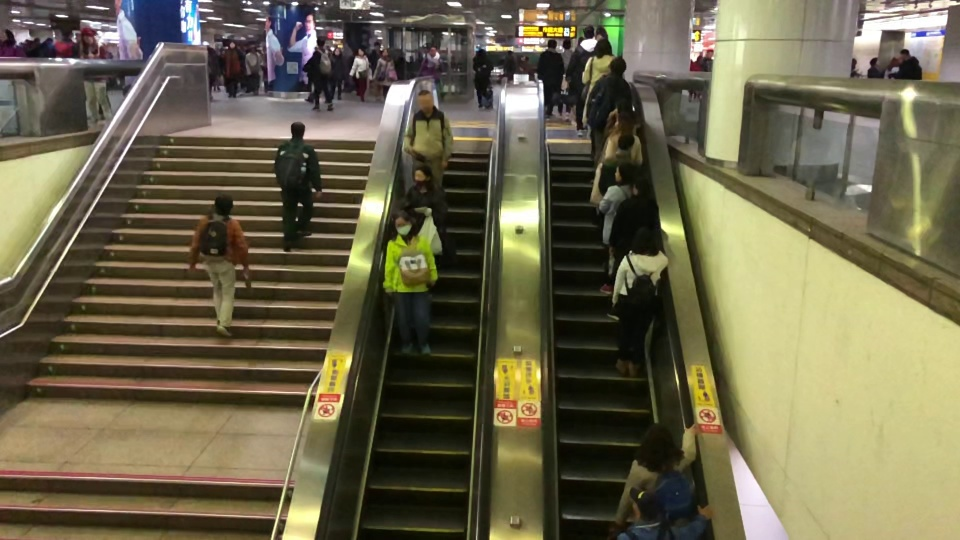person_head: (636, 421, 676, 466), (627, 485, 662, 525), (631, 225, 660, 257), (389, 209, 415, 239), (613, 96, 635, 120), (413, 164, 434, 189), (613, 112, 635, 135), (614, 162, 636, 185), (607, 54, 628, 74), (416, 89, 435, 111), (215, 193, 233, 215), (632, 175, 649, 197), (593, 38, 613, 56), (289, 120, 306, 137), (1, 28, 16, 45), (81, 31, 95, 47), (59, 25, 73, 40), (582, 25, 595, 38), (475, 47, 487, 60), (899, 49, 911, 62), (561, 37, 572, 51), (546, 38, 558, 50), (868, 56, 880, 68), (888, 55, 899, 67), (428, 44, 437, 57), (705, 48, 715, 58), (331, 47, 342, 56), (316, 37, 325, 48), (227, 40, 236, 50), (356, 47, 365, 57), (373, 40, 381, 51), (248, 44, 256, 52), (381, 47, 388, 56)
person_vbox: (600, 418, 701, 536), (185, 191, 249, 338), (608, 226, 669, 378), (382, 209, 439, 357), (585, 111, 644, 244), (606, 178, 661, 320), (590, 96, 645, 227), (273, 122, 323, 252), (614, 482, 714, 540), (404, 89, 454, 190), (584, 55, 632, 159), (598, 161, 635, 294), (405, 165, 448, 275), (579, 38, 615, 159), (565, 24, 598, 137), (78, 28, 113, 127), (303, 37, 335, 112), (537, 39, 565, 118), (556, 35, 574, 121), (472, 47, 494, 111), (372, 48, 397, 102), (349, 46, 373, 101), (223, 40, 246, 97), (888, 48, 922, 80), (415, 45, 444, 82), (242, 44, 263, 95), (368, 41, 384, 103), (53, 24, 80, 58), (328, 47, 345, 100), (0, 28, 26, 58), (697, 46, 715, 75), (866, 57, 886, 81), (882, 55, 901, 79)
